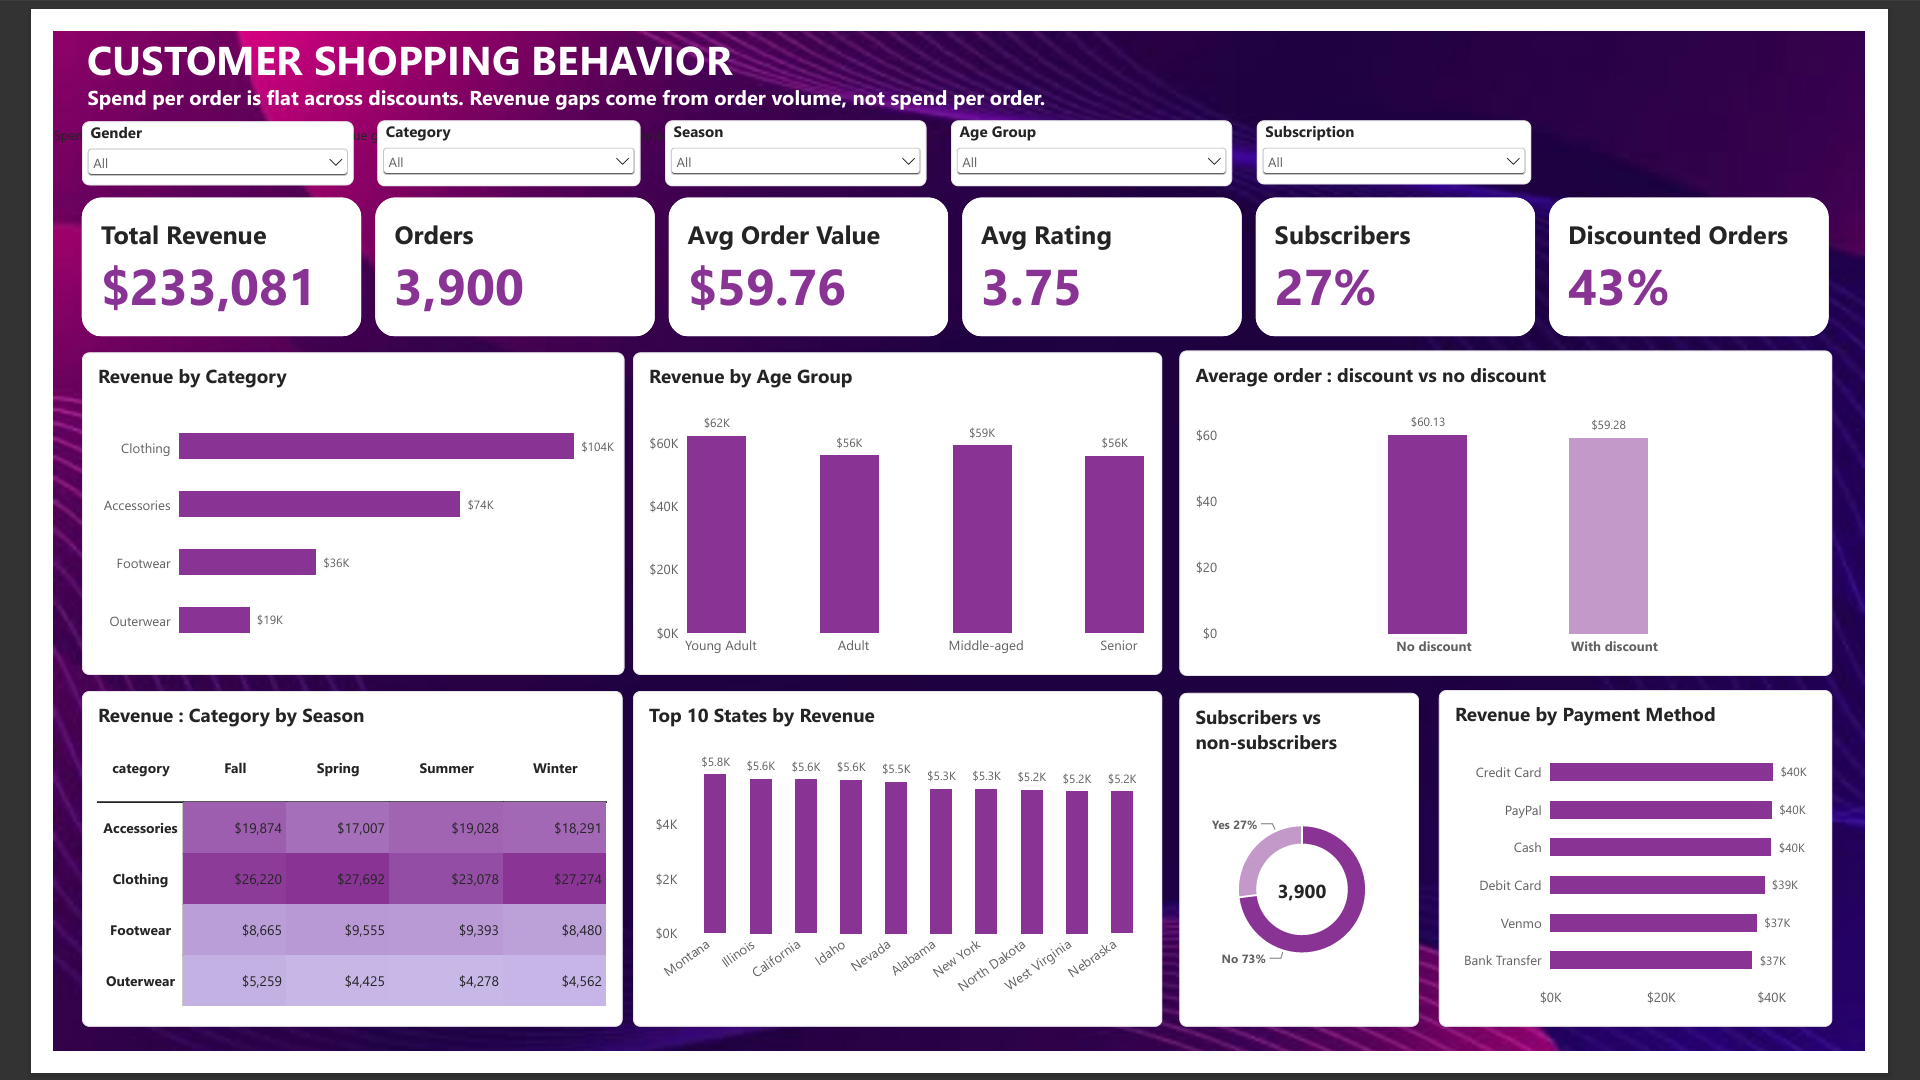

What the dashboard file says about the page in this screenshot:
{"tool":"powerbi","page":{"name":"Page 1","canvas":[1920,1080],"ordinal":0},"visuals":[{"type":"textbox","box":[0,0,1920,127.5],"z":0},{"type":"cardVisual","fields":{"Data":["customer_behavior customer.Total Purchase Amount","customer_behavior customer.Total Customers","customer_behavior.Average Purchase Amount","customer_behavior customer.Average Review Rating","customer_behavior.Subscription Rate","customer_behavior.Discount Usage Rate"]},"box":[30.5,175.8,1855,147.5],"z":1000},{"type":"clusteredBarChart","title":"Revenue by Category","fields":{"Category":["customer_behavior.category"],"Y":["customer_behavior.Total Purchase Amount"]},"box":[30.5,339.9,574.4,342.3],"z":2000},{"type":"clusteredColumnChart","title":"Average order : discount vs no discount","fields":{"Category":["customer_behavior.Discount Label"],"Y":["customer_behavior.Avg Order Value"]},"box":[1192.5,337.5,692.5,345],"z":3000},{"type":"donutChart","title":"Subscribers vs non-subscribers","fields":{"Category":["customer_behavior.subscription_status"],"Y":["customer_behavior.Total Customers"]},"box":[1193.3,701,253.2,354],"z":4000},{"type":"barChart","title":"Revenue by Payment Method","fields":{"Category":["customer_behavior.payment_method"],"Y":["customer_behavior.Total Purchase Amount"]},"box":[1467.5,697.5,417.5,357.5],"z":5000},{"type":"clusteredColumnChart","title":"Revenue by Age Group","fields":{"Category":["customer_behavior.age_group"],"Y":["customer_behavior.Total Purchase Amount"]},"box":[614.3,339.9,560.3,342.3],"z":6000},{"type":"pivotTable","title":"Revenue : Category by Season","fields":{"Columns":["customer_behavior.season"],"Rows":["customer_behavior.category"],"Values":["customer_behavior.Total Purchase Amount"]},"box":[30.5,698.7,572.1,356.4],"z":7000},{"type":"clusteredColumnChart","title":"Top 10 States by Revenue","fields":{"Category":["customer_behavior.location"],"Y":["customer_behavior.Total Revenue"]},"box":[614.3,698.7,560.3,356.4],"z":8000},{"type":"slicer","fields":{"Values":["customer_behavior.gender"]},"box":[30,95,287.5,67.5],"z":9000},{"type":"slicer","fields":{"Values":["customer_behavior.category"]},"box":[342.9,93.8,279,70.3],"z":10000},{"type":"slicer","fields":{"Values":["customer_behavior.season"]},"box":[648.2,93.8,276.6,70.3],"z":11000},{"type":"slicer","fields":{"Values":["customer_behavior.subscription_status"]},"box":[1275.4,93.8,290.7,68],"z":12000},{"type":"slicer","fields":{"Values":["customer_behavior.age_group"]},"box":[951.3,93.8,297.7,70.3],"z":13000},{"type":"textbox","box":[30,55,1320,40],"z":14000}]}

Visuals, with their boxes in screenshot pixels (x1, y1, x2, y2), scaled from the page's 1920x1080 canvas onto the 1920x1080 screenshot:
textbox: detection(0, 0, 1919, 128)
cardVisual - customer_behavior customer.Total Purchase Amount x customer_behavior customer.Total Customers: detection(30, 176, 1886, 323)
"Revenue by Category" clusteredBarChart: detection(30, 340, 605, 682)
"Average order : discount vs no discount" clusteredColumnChart: detection(1192, 338, 1885, 682)
"Subscribers vs non-subscribers" donutChart: detection(1193, 701, 1446, 1055)
"Revenue by Payment Method" barChart: detection(1468, 698, 1885, 1055)
"Revenue by Age Group" clusteredColumnChart: detection(614, 340, 1175, 682)
"Revenue : Category by Season" pivotTable: detection(30, 699, 603, 1055)
"Top 10 States by Revenue" clusteredColumnChart: detection(614, 699, 1175, 1055)
slicer - customer_behavior.gender: detection(30, 95, 318, 162)
slicer - customer_behavior.category: detection(343, 94, 622, 164)
slicer - customer_behavior.season: detection(648, 94, 925, 164)
slicer - customer_behavior.subscription_status: detection(1275, 94, 1566, 162)
slicer - customer_behavior.age_group: detection(951, 94, 1249, 164)
textbox: detection(30, 55, 1350, 95)
